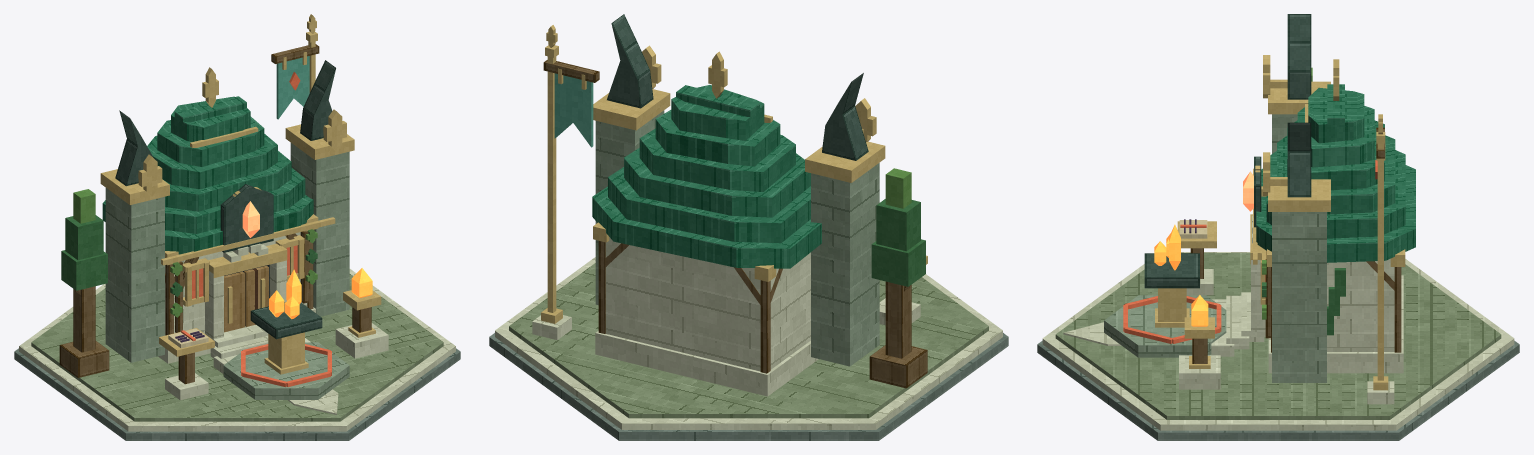
File: elf_infernal_sanctum_hex_v1.glb
3 views of the same model, side by side, from view 1: azimuth 30°, elevation 25°; view 2: azimuth 150°, elevation 25°; view 3: azimuth 270°, elevation 25° (orthographic). The views are drawn at different scales.
Parts seen in each view (by area): view 1: Elf_Infernal_Sanctum_Hex_V1_Foundation, Elf_Infernal_Sanctum_Hex_V1_Hall, Elf_Infernal_Sanctum_Hex_V1_Focus, Elf_Infernal_Sanctum_Hex_V1_Roofs, Elf_Infernal_Sanctum_Hex_V1_Details, Elf_Infernal_Sanctum_Hex_V1_Courtyard, Elf_Infernal_Sanctum_Hex_V1_Training, Elf_Infernal_Sanctum_Hex_V1_Faction; view 2: Elf_Infernal_Sanctum_Hex_V1_Hall, Elf_Infernal_Sanctum_Hex_V1_Foundation, Elf_Infernal_Sanctum_Hex_V1_Roofs, Elf_Infernal_Sanctum_Hex_V1_Focus, Elf_Infernal_Sanctum_Hex_V1_Faction, Elf_Infernal_Sanctum_Hex_V1_Details; view 3: Elf_Infernal_Sanctum_Hex_V1_Foundation, Elf_Infernal_Sanctum_Hex_V1_Hall, Elf_Infernal_Sanctum_Hex_V1_Roofs, Elf_Infernal_Sanctum_Hex_V1_Focus, Elf_Infernal_Sanctum_Hex_V1_Courtyard, Elf_Infernal_Sanctum_Hex_V1_Details, Elf_Infernal_Sanctum_Hex_V1_Training, Elf_Infernal_Sanctum_Hex_V1_Faction.
Part boxes in pixels (x1,y1,x2,y2): Elf_Infernal_Sanctum_Hex_V1_Foundation: [14, 269, 460, 440]; Elf_Infernal_Sanctum_Hex_V1_Hall: [105, 143, 349, 363]; Elf_Infernal_Sanctum_Hex_V1_Focus: [59, 60, 388, 377]; Elf_Infernal_Sanctum_Hex_V1_Roofs: [100, 96, 354, 265]; Elf_Infernal_Sanctum_Hex_V1_Details: [138, 14, 346, 332]; Elf_Infernal_Sanctum_Hex_V1_Courtyard: [207, 324, 349, 414]; Elf_Infernal_Sanctum_Hex_V1_Training: [159, 328, 331, 400]; Elf_Infernal_Sanctum_Hex_V1_Faction: [271, 31, 319, 119]; Elf_Infernal_Sanctum_Hex_V1_Hall: [595, 110, 879, 396]; Elf_Infernal_Sanctum_Hex_V1_Foundation: [489, 257, 1008, 440]; Elf_Infernal_Sanctum_Hex_V1_Roofs: [592, 85, 885, 268]; Elf_Infernal_Sanctum_Hex_V1_Focus: [607, 14, 927, 388]; Elf_Infernal_Sanctum_Hex_V1_Faction: [532, 45, 599, 340]; Elf_Infernal_Sanctum_Hex_V1_Details: [546, 25, 876, 281]; Elf_Infernal_Sanctum_Hex_V1_Foundation: [1037, 252, 1519, 440]; Elf_Infernal_Sanctum_Hex_V1_Hall: [1250, 114, 1403, 382]; Elf_Infernal_Sanctum_Hex_V1_Roofs: [1253, 81, 1415, 264]; Elf_Infernal_Sanctum_Hex_V1_Focus: [1144, 14, 1312, 389]; Elf_Infernal_Sanctum_Hex_V1_Courtyard: [1063, 292, 1264, 357]; Elf_Infernal_Sanctum_Hex_V1_Details: [1260, 55, 1405, 338]; Elf_Infernal_Sanctum_Hex_V1_Training: [1123, 219, 1221, 343]; Elf_Infernal_Sanctum_Hex_V1_Faction: [1367, 127, 1394, 404].
Bounding box in the file's own units: 1.59 × 1.27 × 1.84.
Materials: 1 (1 with a texture image).
